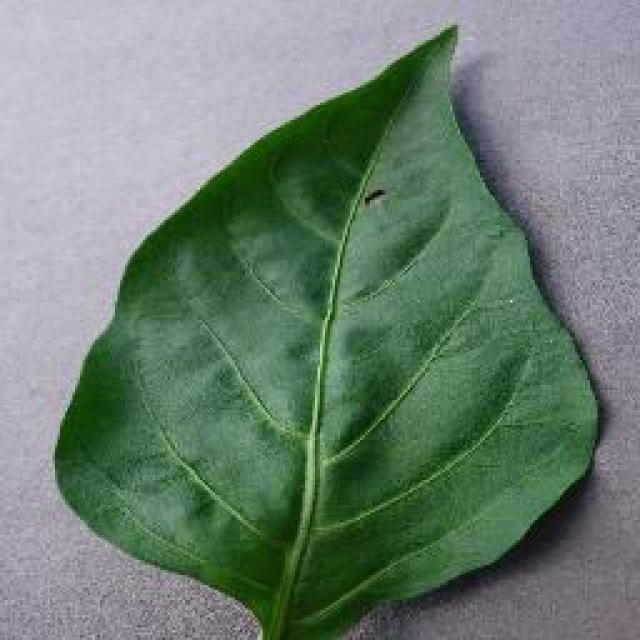Leaf: (187, 174, 532, 480)
